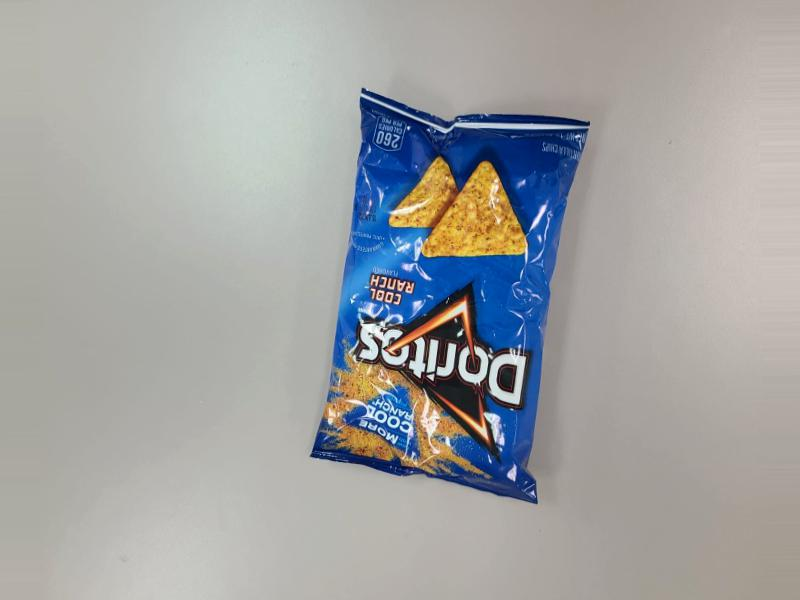doritos: (316, 112, 595, 518)
